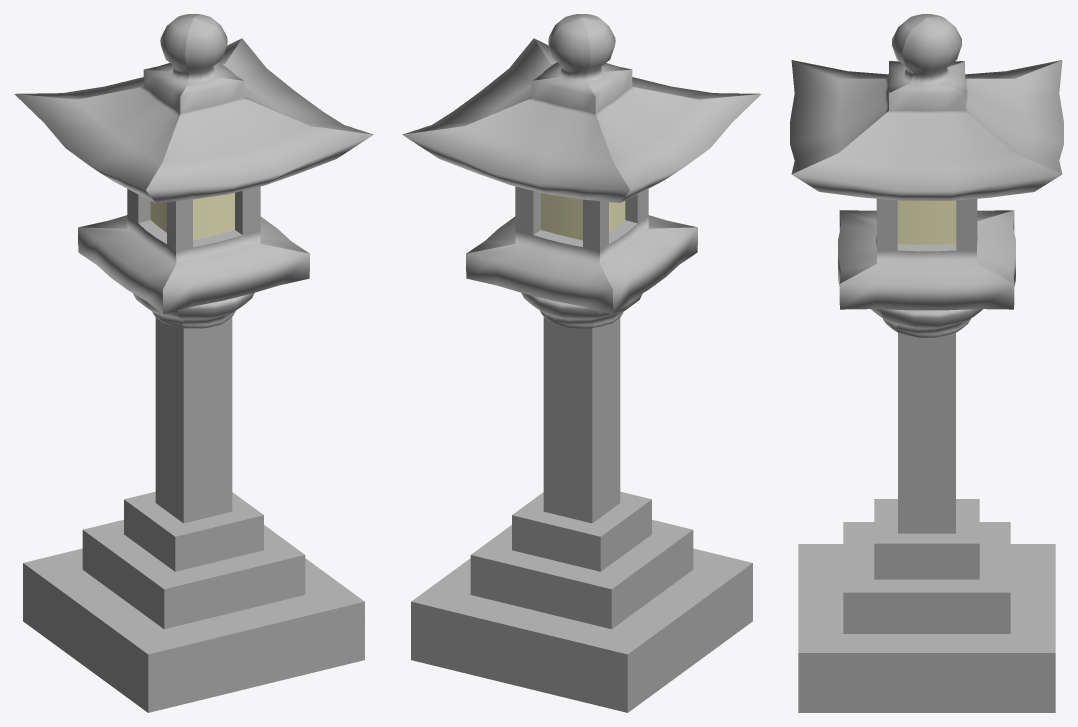
File: Toro.fbx
The picture shows the model from 3 angles, left to right: view 1: azimuth 30°, elevation 25°; view 2: azimuth 150°, elevation 25°; view 3: azimuth 270°, elevation 25°; orthographic projection. The views are drawn at different scales.
Visible parts, largest first — view 1: Toro; view 2: Toro; view 3: Toro.
Part boxes in pixels (x1,y1,x2,y2): Toro: (14,14,373,712); Toro: (402,14,761,712); Toro: (790,14,1063,712).
Size of the model in its own units: 3.34 by 8.63 by 3.34.
